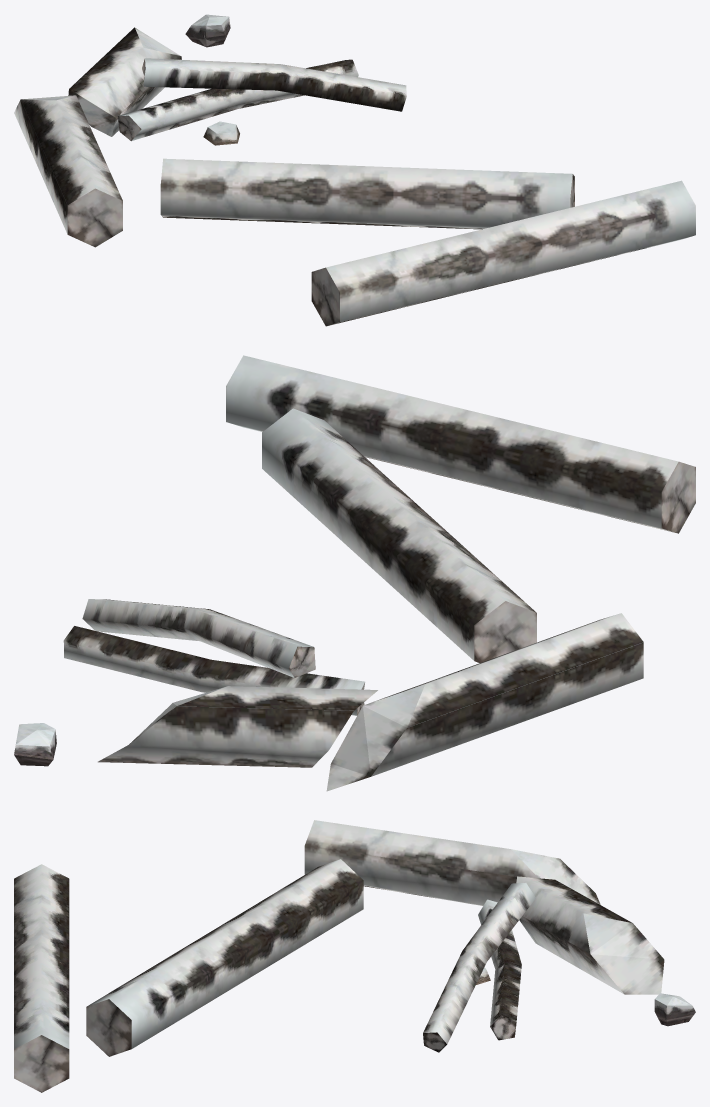
File: environment_common_zawu_003_a.FBX
3 views of the same model, one above another, from view 1: azimuth 30°, elevation 25°; view 2: azimuth 150°, elevation 25°; view 3: azimuth 270°, elevation 25° (orthographic). The views are drawn at different scales.
Visible parts, largest first — view 1: environment_common_zawu_003_a; view 2: environment_common_zawu_003_a; view 3: environment_common_zawu_003_a.
Part boxes in pixels (x1,y1,x2,y2): environment_common_zawu_003_a: (14, 14, 695, 326); environment_common_zawu_003_a: (14, 355, 695, 791); environment_common_zawu_003_a: (14, 820, 695, 1092).
Bounding box in the file's own units: 207 × 31.78 × 264.
